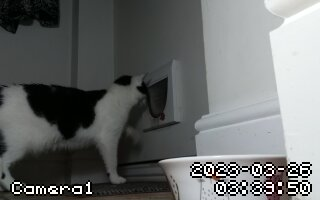bad: (2, 66, 147, 190)
